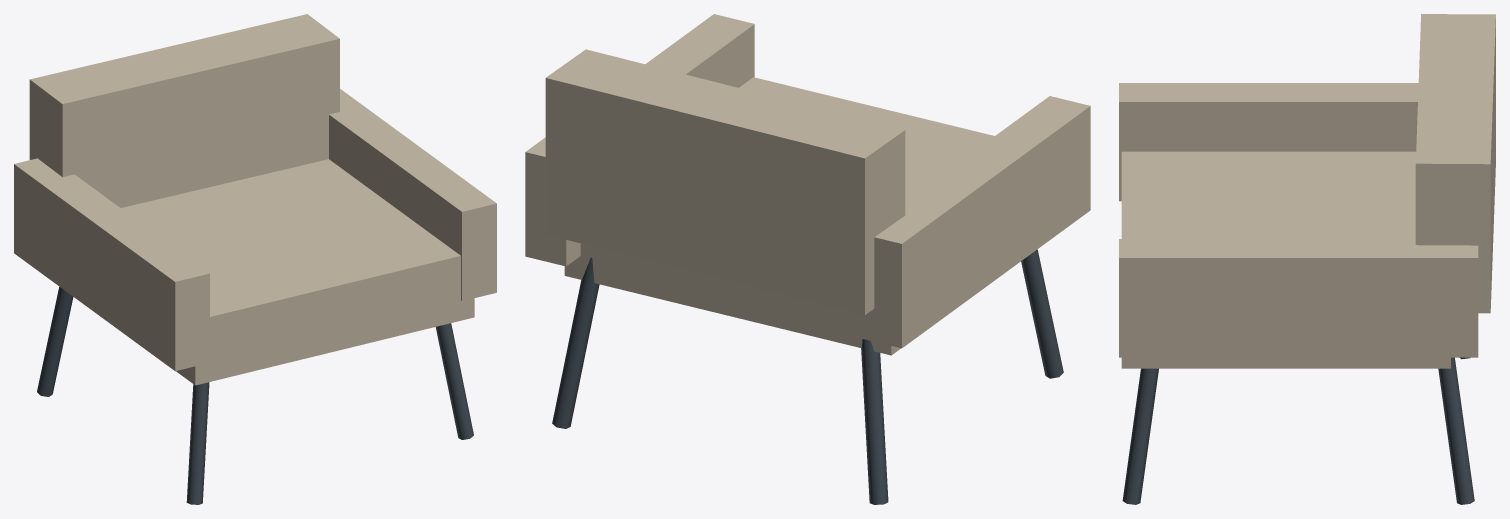
File: armchair-3.glb
3 renders of one model, left to right at view 1: azimuth 30°, elevation 25°; view 2: azimuth 150°, elevation 25°; view 3: azimuth 270°, elevation 25°, orthographic. The views are drawn at different scales.
Visible parts, largest first — view 1: armchair:3:editor; view 2: armchair:3:editor; view 3: armchair:3:editor.
Boxes of the visible parts, box(x1,y1,x2,y2) form: armchair:3:editor: box(14, 14, 496, 504); armchair:3:editor: box(525, 14, 1090, 504); armchair:3:editor: box(1119, 14, 1495, 504).
Bounding box in the file's own units: 0.83 × 0.7533 × 0.7553.
